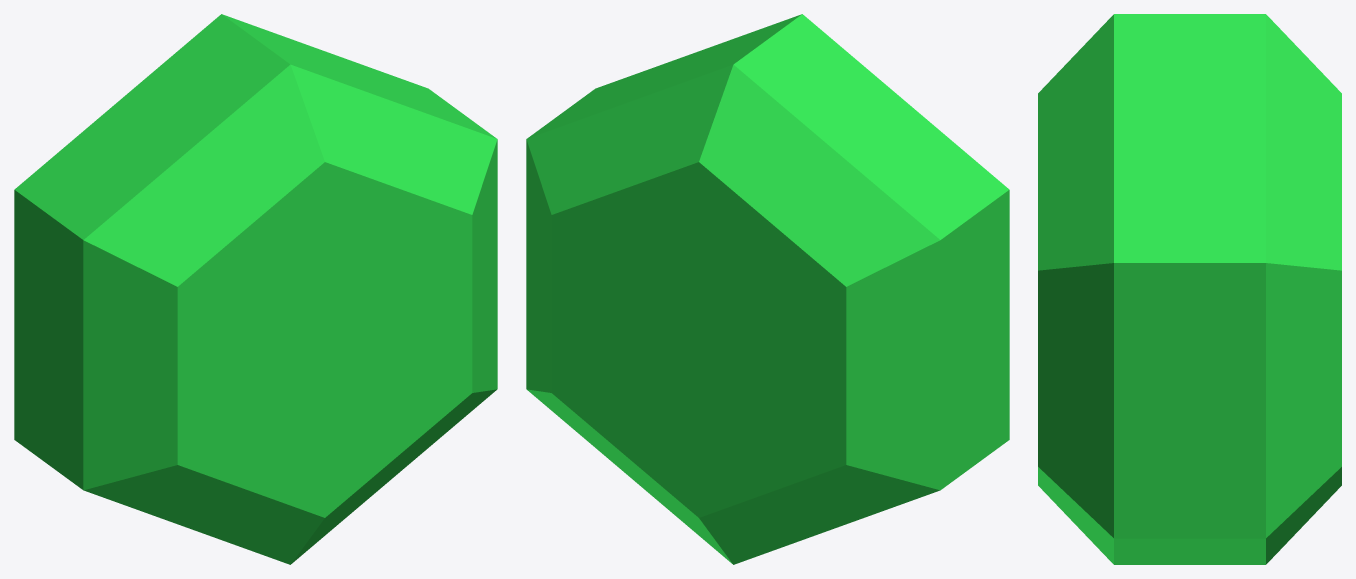
Rendered from Gem1.fbx.
3 views of the same model, side by side, from view 1: azimuth 30°, elevation 25°; view 2: azimuth 150°, elevation 25°; view 3: azimuth 270°, elevation 25° (orthographic). The views are drawn at different scales.
Visible parts, largest first — view 1: Gem1; view 2: Gem1; view 3: Gem1.
Boxes of the visible parts, x1,y1,x2,y2 form: Gem1: [14, 14, 497, 564]; Gem1: [526, 14, 1009, 564]; Gem1: [1038, 14, 1341, 564].
Bounding box in the file's own units: 173 × 200 × 100.
